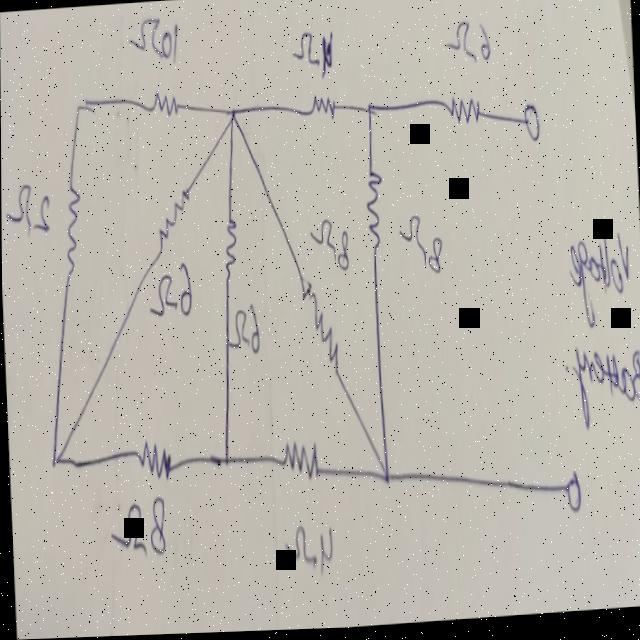junction: (227, 100, 239, 134), (48, 442, 59, 477), (219, 445, 230, 478), (380, 464, 391, 491), (364, 98, 376, 122), (73, 94, 82, 124)
resistor: (300, 275, 340, 382), (155, 177, 192, 243), (61, 182, 85, 278), (364, 166, 385, 255), (281, 434, 319, 479), (445, 90, 482, 128), (220, 205, 238, 276), (139, 438, 172, 476), (148, 89, 180, 124), (309, 90, 337, 124)
terminal: (561, 469, 581, 517), (520, 99, 540, 146)
text: (563, 226, 640, 418), (106, 489, 166, 557), (396, 207, 443, 278), (126, 8, 180, 69), (281, 519, 332, 577), (3, 176, 50, 237), (146, 255, 192, 317), (288, 27, 335, 83), (443, 15, 491, 69), (307, 212, 351, 270), (226, 297, 260, 358)
